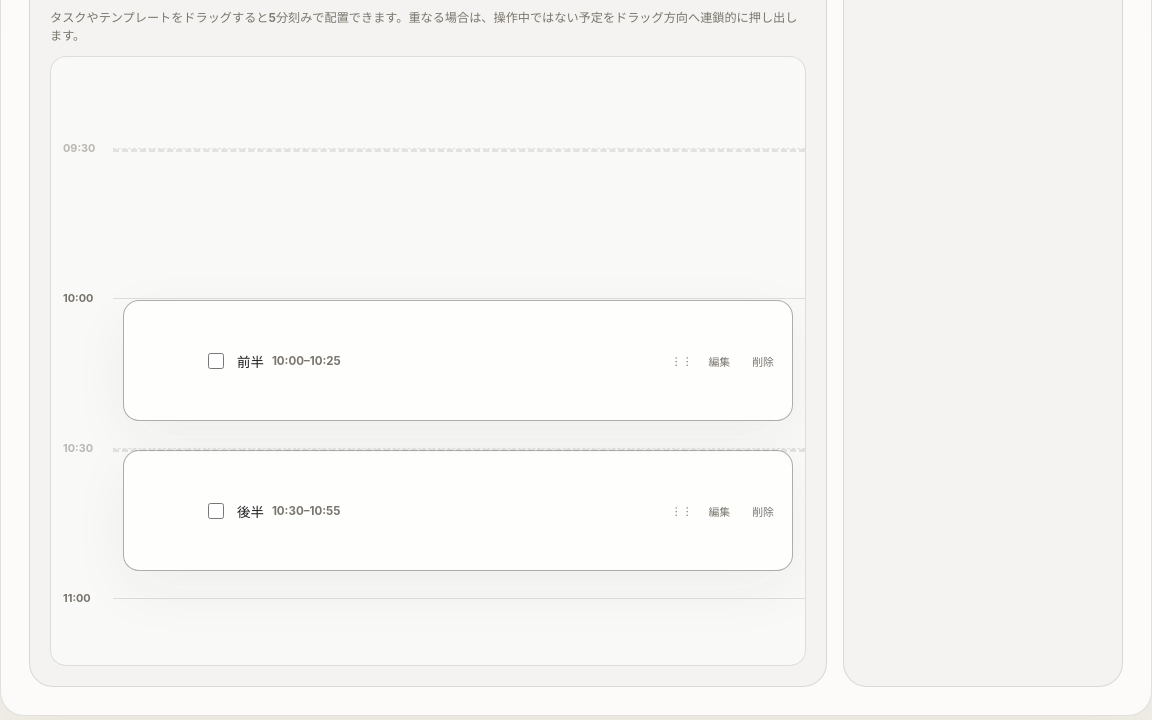
Scenario: TodoPage › 編集で時間が重なる場合は後続Todoを押し出して重複を防ぐ
This screenshot has width=1152, height=720.
(page scrolled)
Click the button with aria-label "前半を編集": click(719, 361) [702,349,736,373]
(page scrolled)
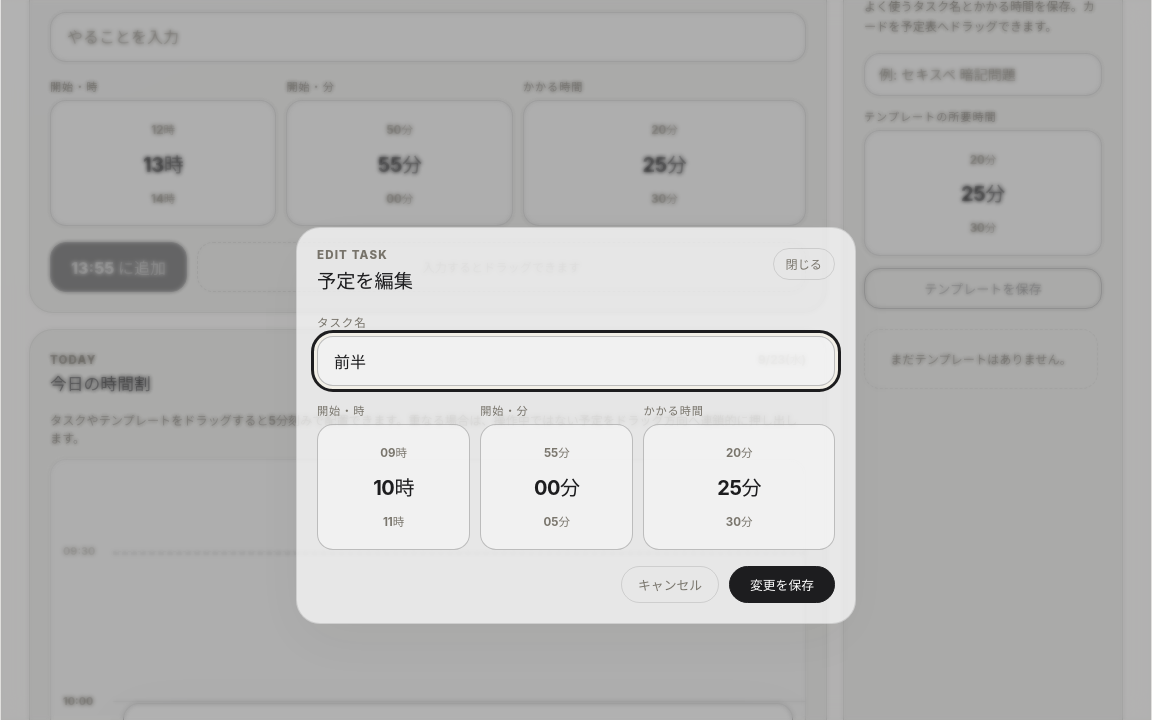
Click the button named "かかる時間を進める": click(739, 521) [656,509,822,533]
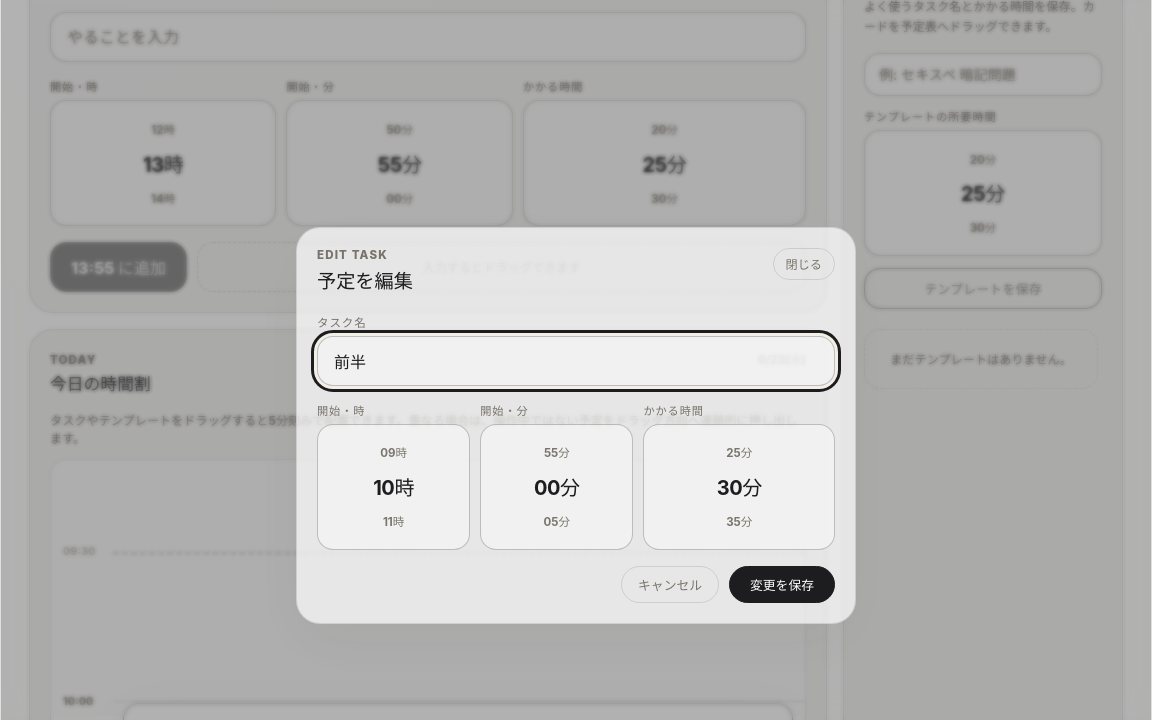
Click the button named "かかる時間を進める": click(739, 521) [656,509,822,533]
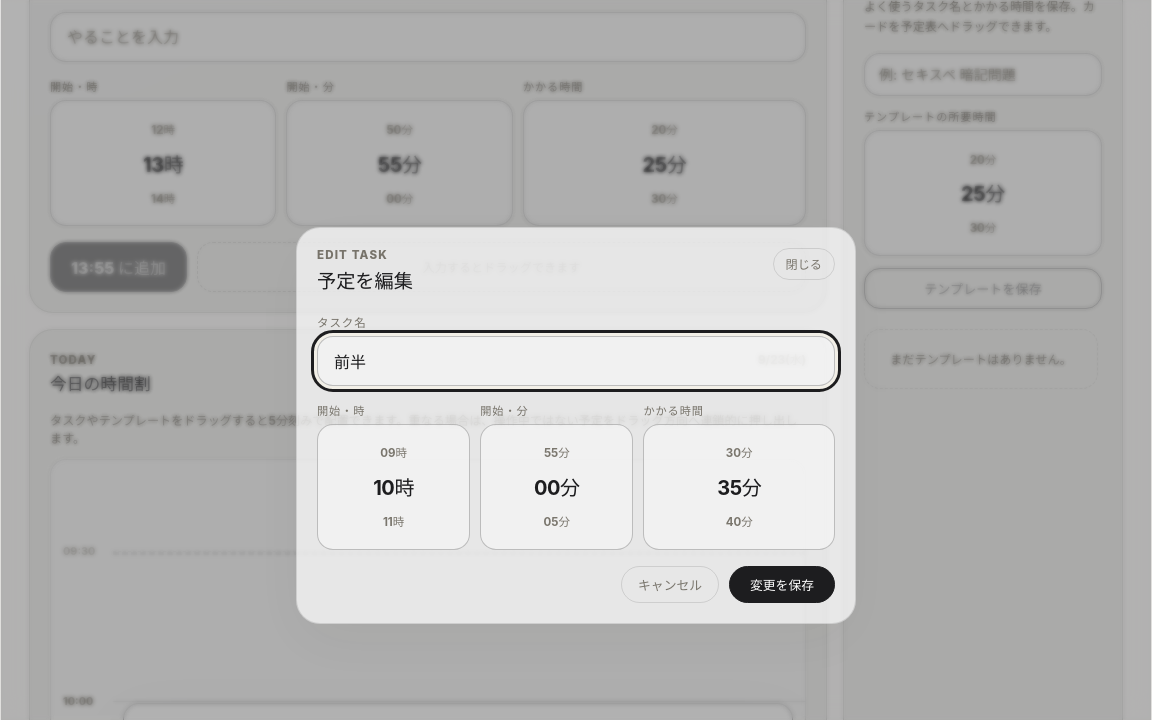
Click the button "変更を保存": click(782, 584) [729,566,835,603]
(page scrolled)
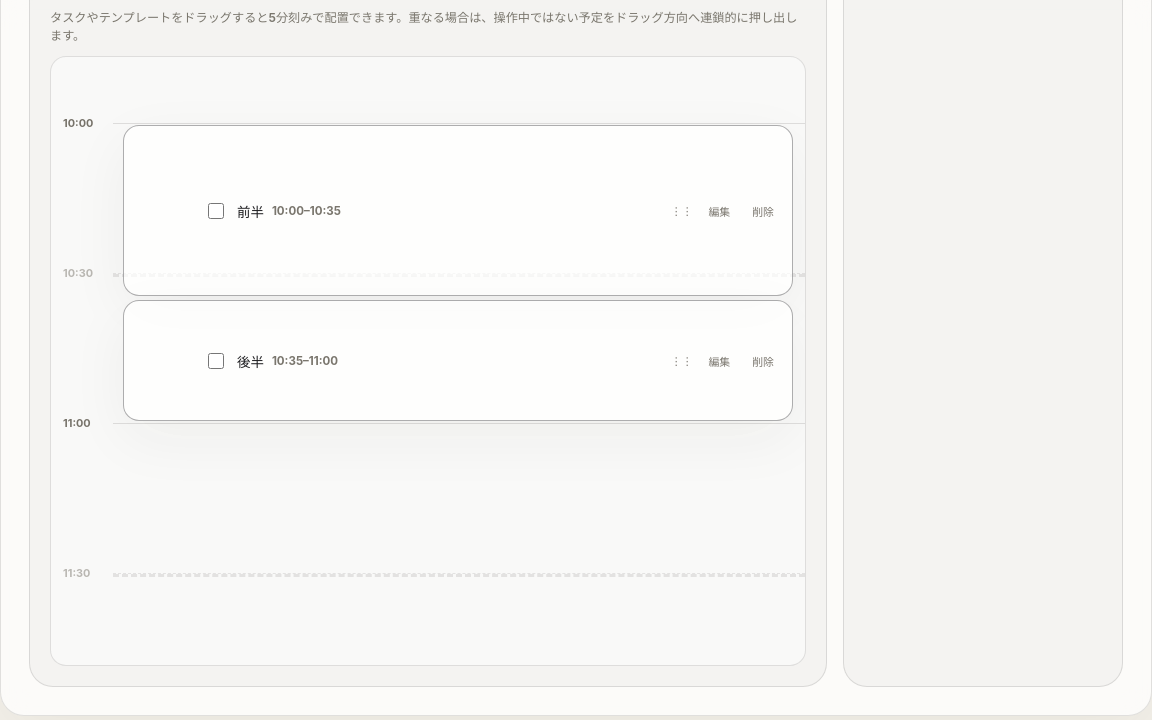
Result: the text "10:00–10:35" is shown at [272,204,341,218]
Result: the element named "10:35 後半" is shown at [123,300,793,422]
Result: the text "10:35–11:00" is shown at [272,354,338,368]
